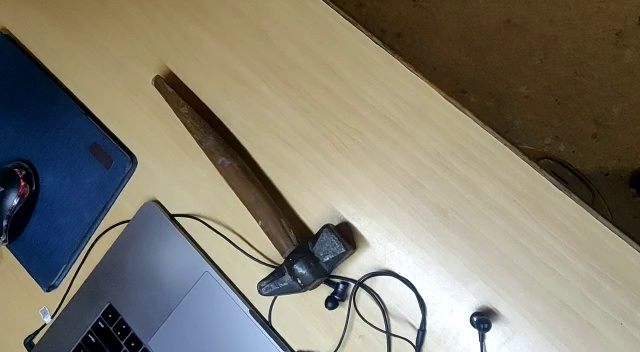hammer: (147, 71, 358, 299)
